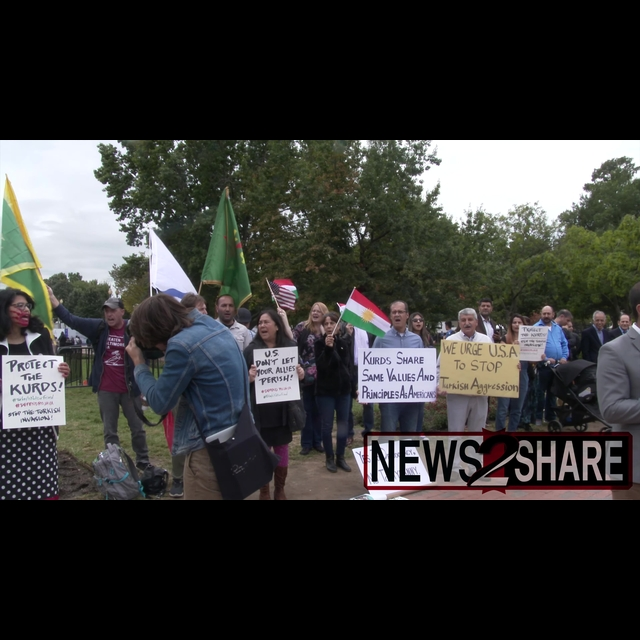IBKY: (338, 286, 392, 339)
